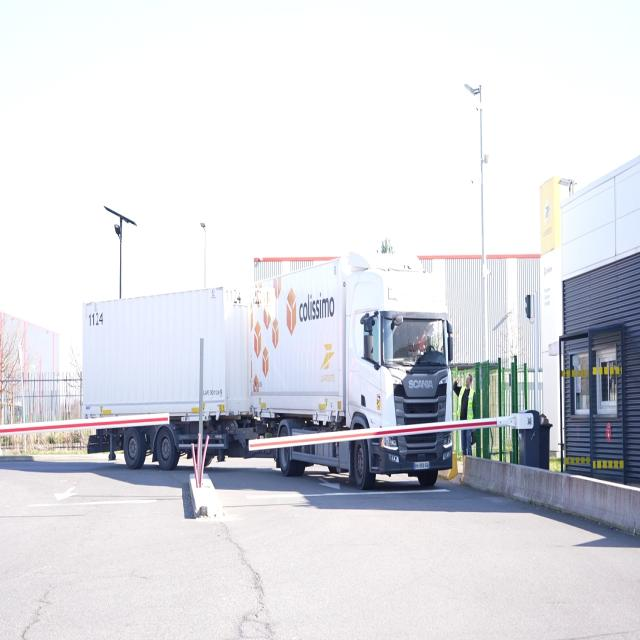Code: (85, 305, 106, 332)
